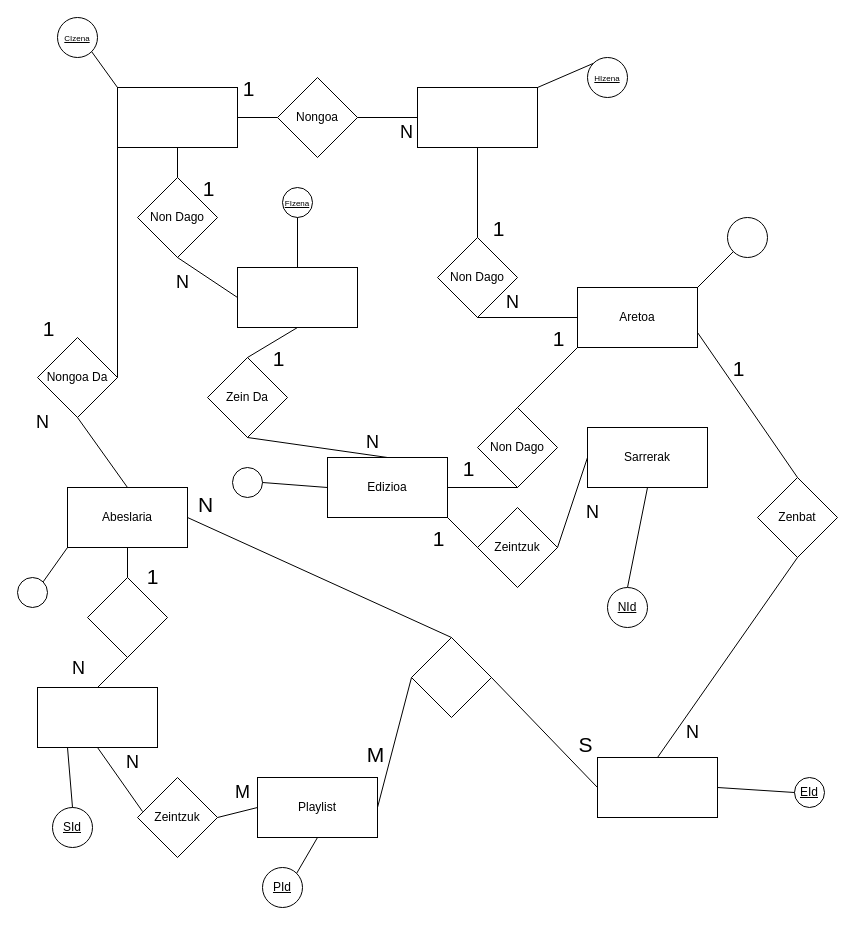
Some shapes in this 855 by 925 pixel diagram are drawn without their labels. The centre of each missing label's shape, as x and y in pixels:
Abestia: (x=97, y=717)
Antzezlekua: (x=657, y=787)
ArtId: (x=32, y=592)
EIzena: (x=247, y=482)
Festibal: (x=297, y=297)
Herrialdea: (x=177, y=117)
Hiria: (x=477, y=117)
LId: (x=747, y=237)
Norena Da: (x=127, y=617)
Saioa: (x=451, y=677)
